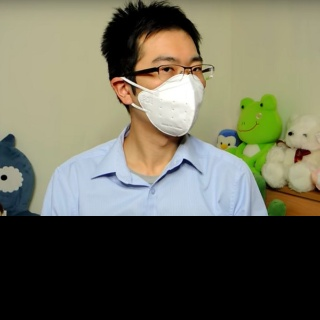with_mask: (135, 53, 206, 138)
